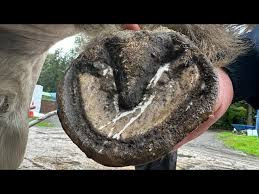horsesole: (56, 43, 220, 168)
